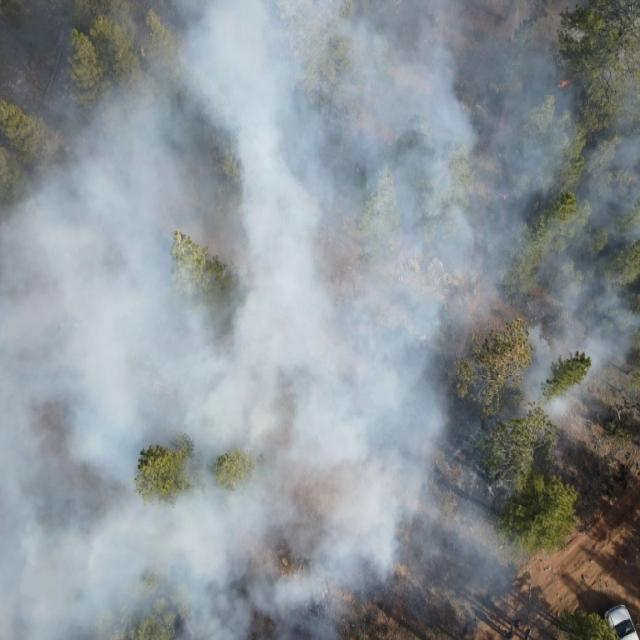fire: (556, 75, 572, 89), (500, 190, 511, 201)
smoke: (0, 0, 516, 640), (517, 0, 640, 501)
